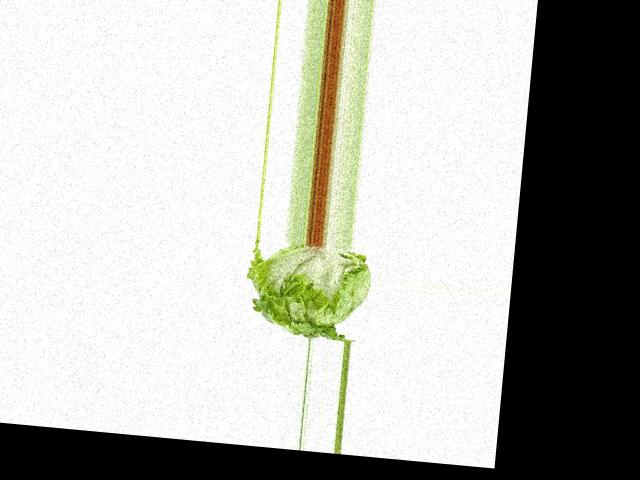lettuce: (237, 238, 377, 342)
